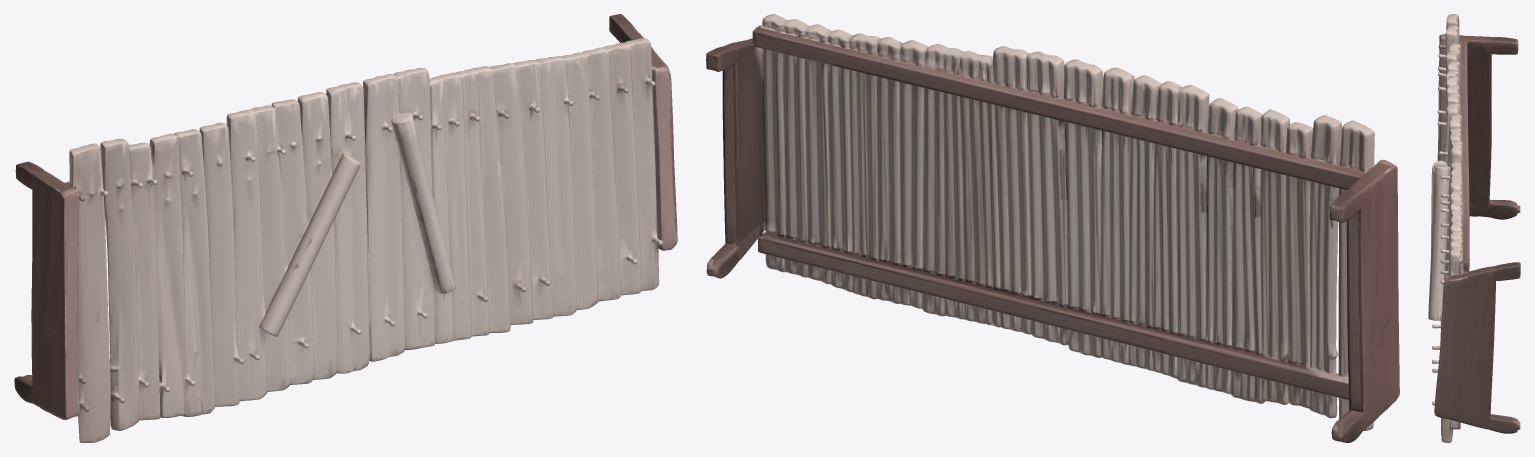
Rendered from jambi.glb.
3 views of the same model, side by side, from view 1: azimuth 30°, elevation 25°; view 2: azimuth 150°, elevation 25°; view 3: azimuth 270°, elevation 25° (orthographic). The views are drawn at different scales.
Visible parts, largest first — view 1: node_0; view 2: node_0; view 3: node_0.
Boxes of the visible parts, x1,y1,x2,y2 form: node_0: (14, 14, 677, 442); node_0: (706, 14, 1399, 442); node_0: (1428, 14, 1520, 442).
Bounding box in the file's own units: 1.11 × 0.508 × 0.1886.
Materials: 1 (1 with a texture image).
